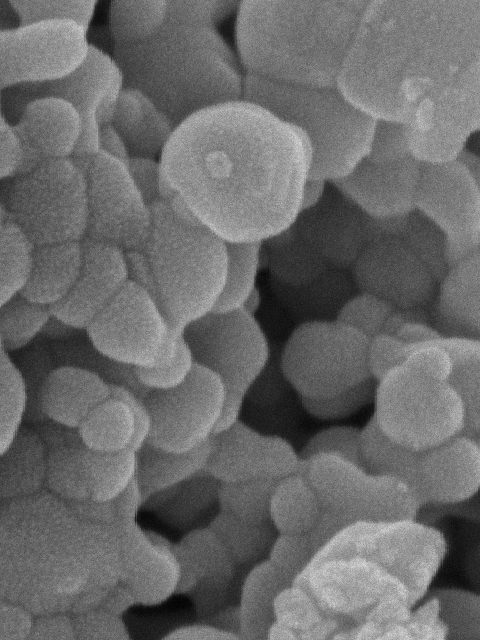nano: (196, 140, 245, 184)
